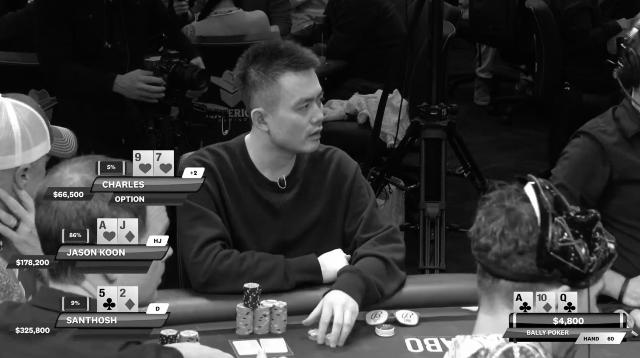10D: (536, 292, 554, 312)
2D: (117, 287, 137, 311)
5C: (97, 288, 117, 312)
7H: (153, 152, 174, 176)
9H: (132, 150, 154, 176)
AC: (514, 292, 532, 314)
AH: (98, 220, 118, 244)
JD: (119, 220, 137, 244)
QC: (560, 293, 578, 313)
